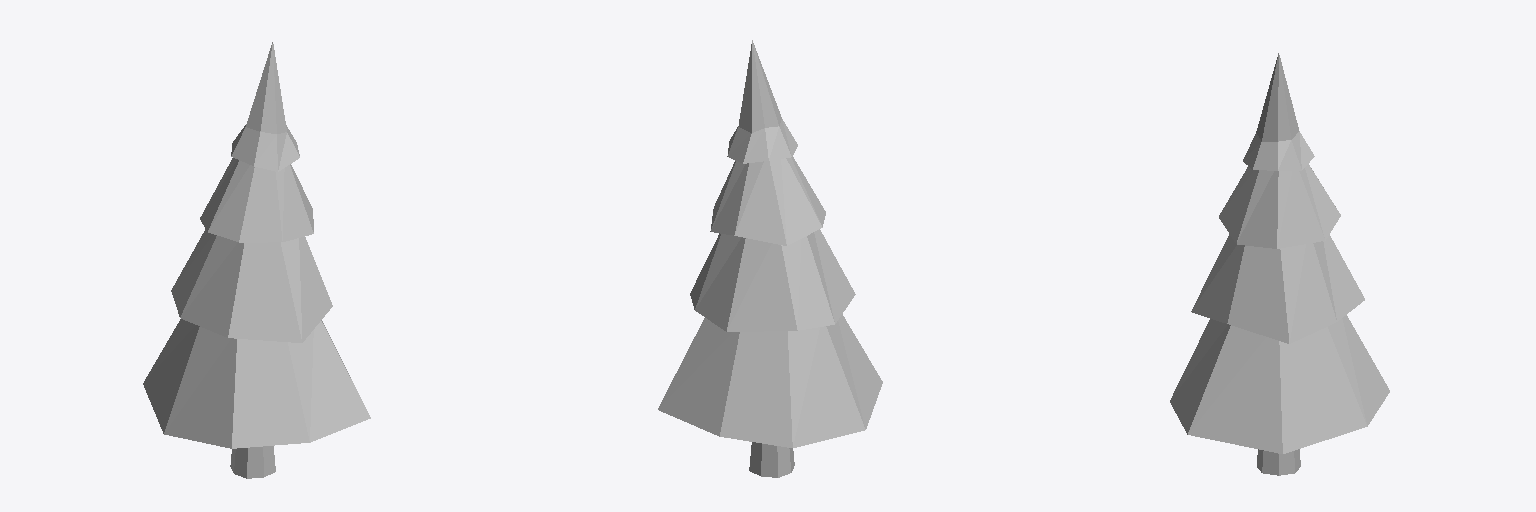
The model's file is Tree Green 2.obj.
3 renders of one model, left to right at view 1: azimuth 30°, elevation 25°; view 2: azimuth 150°, elevation 25°; view 3: azimuth 270°, elevation 25°, orthographic.
Visible parts, largest first — view 1: Tree Green 2; view 2: Tree Green 2; view 3: Tree Green 2.
Boxes of the visible parts, <box> form: Tree Green 2: <box>143,42,370,478</box>; Tree Green 2: <box>658,40,882,477</box>; Tree Green 2: <box>1170,53,1389,475</box>.
Size of the model in its own units: 2.9 by 6.17 by 2.91.